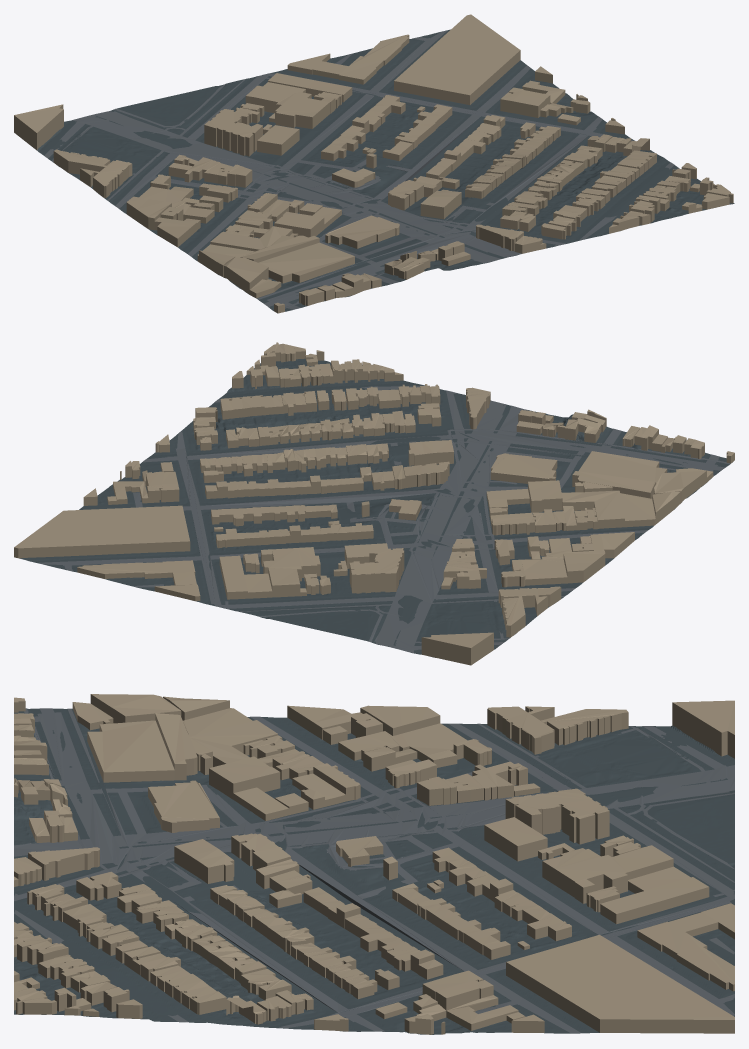
Rendered from epsg26910-1441-10874.lod0.glb.
The picture shows the model from 3 angles, top to bottom: view 1: azimuth 30°, elevation 25°; view 2: azimuth 150°, elevation 25°; view 3: azimuth 270°, elevation 25°; orthographic projection. The views are drawn at different scales.
Visible parts, largest first — view 1: epsg26910-1441-10874-lod0; view 2: epsg26910-1441-10874-lod0; view 3: epsg26910-1441-10874-lod0.
Part boxes in pixels (x1,y1,x2,y2): epsg26910-1441-10874-lod0: [14, 14, 734, 313]; epsg26910-1441-10874-lod0: [14, 342, 734, 665]; epsg26910-1441-10874-lod0: [14, 694, 734, 1034].
Size of the model in its own units: 384 by 25.4 by 384.
